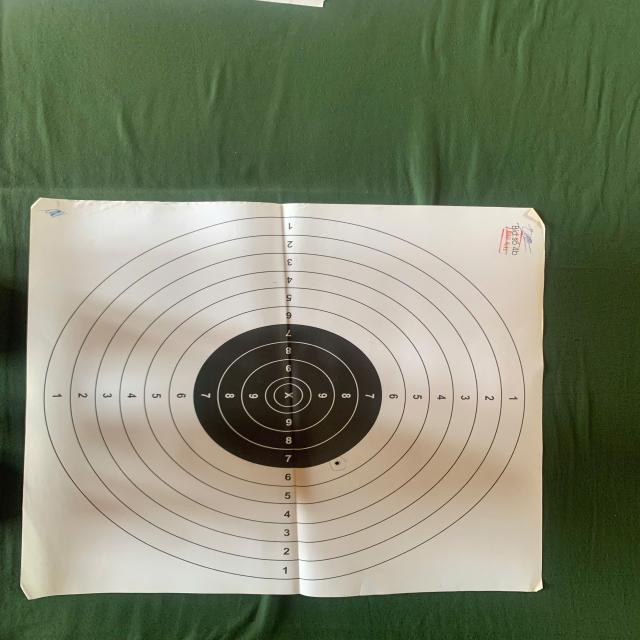bullet: (334, 461, 340, 465)
target: (21, 198, 545, 598)
